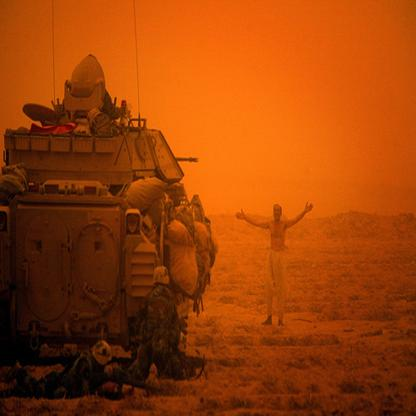Tank: (1, 50, 222, 384)
